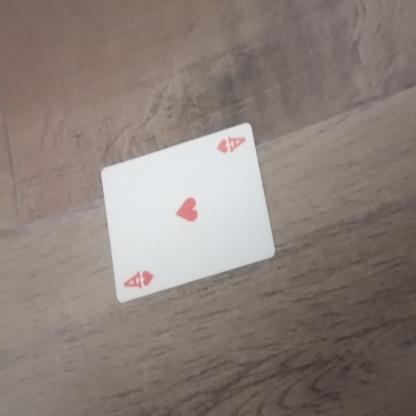AH: (122, 267, 160, 300), (214, 129, 254, 159)
